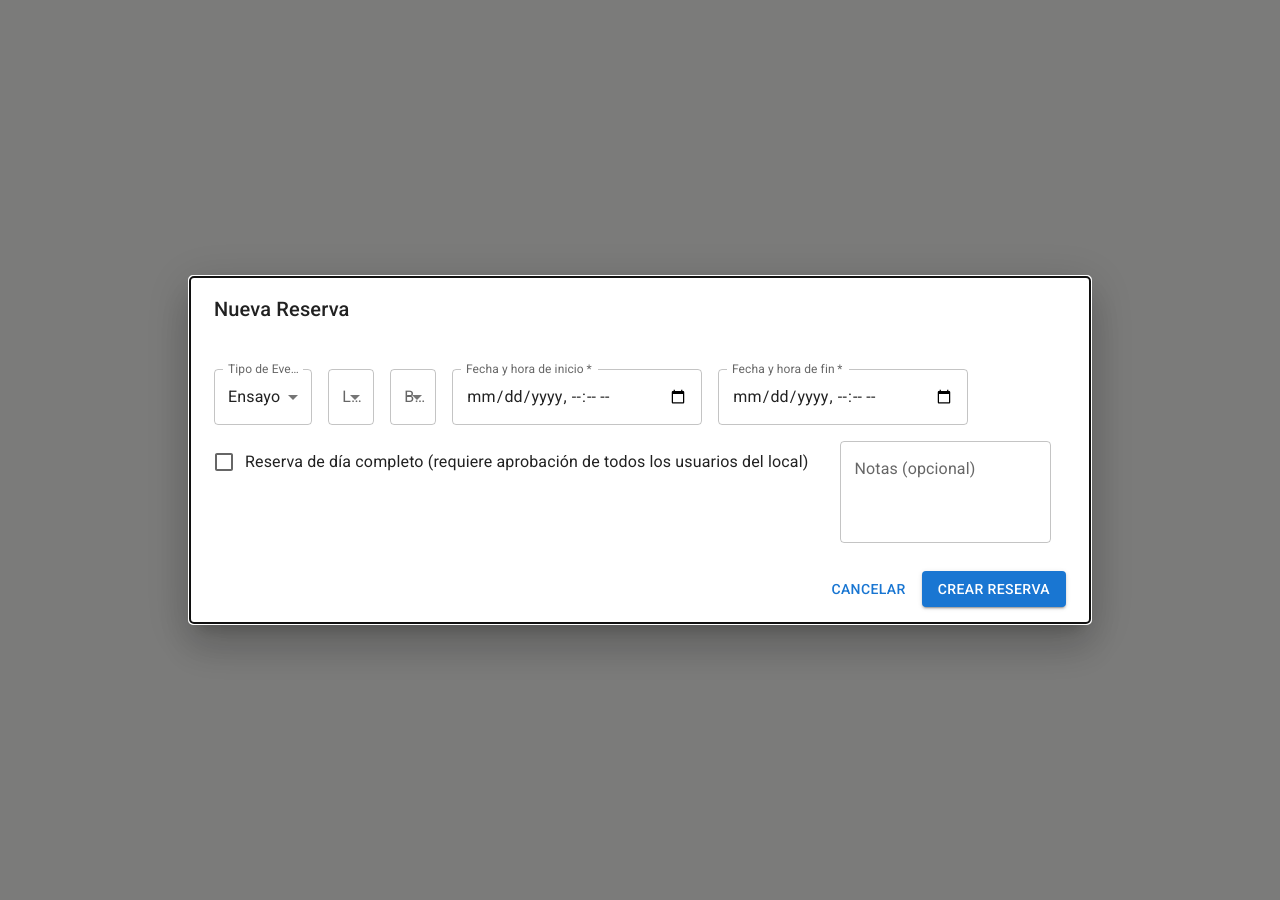
Test: ReservaForm › shows contextual alert for ENSAYO dia completo
This screenshot has width=1280, height=900.
Step 1. Click the checkbox labelled "Reserva de día completo" → (510, 462), box [212, 450, 808, 474]
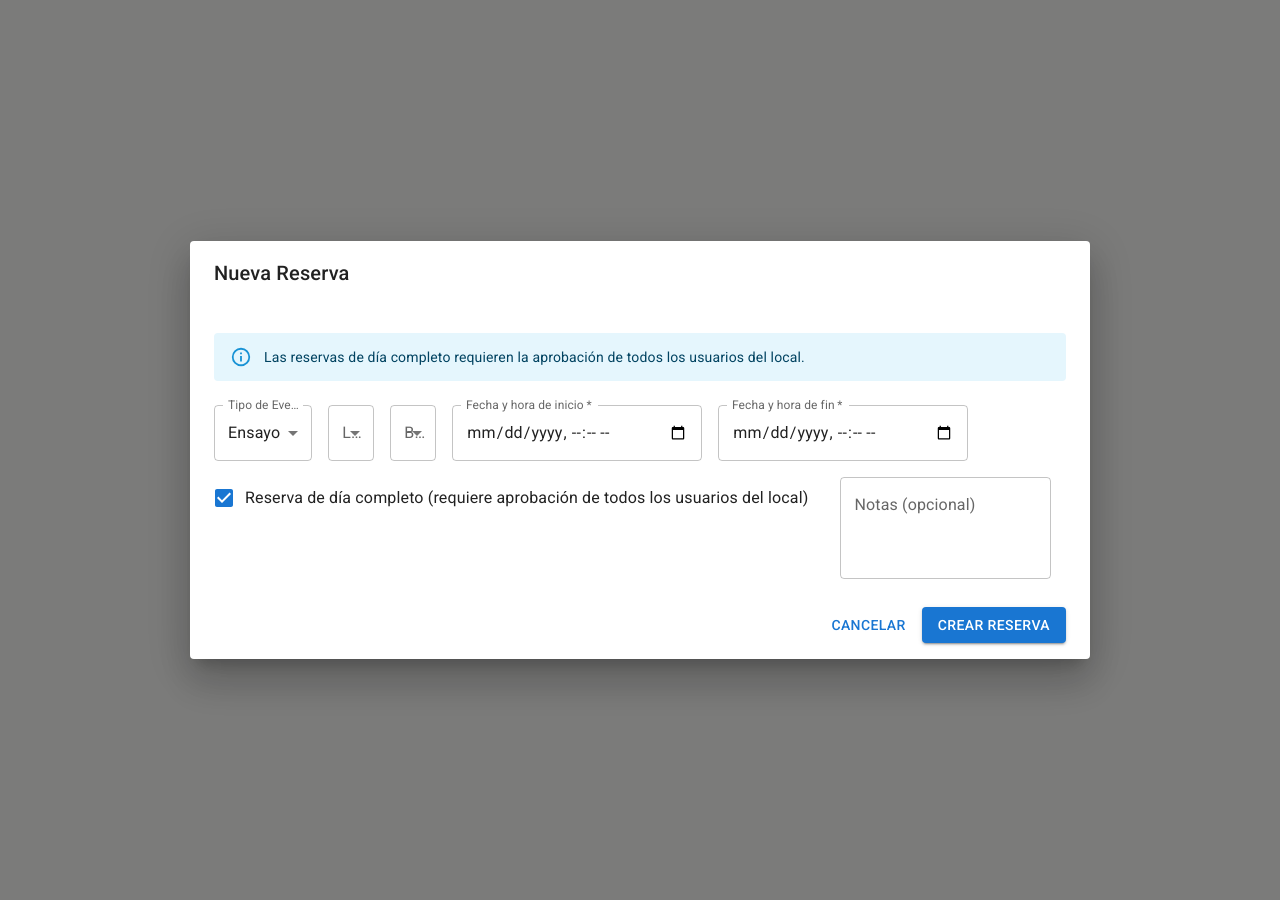
expect the text "requieren la aprobación de todos los usuarios del local" is shown: met, box [264, 349, 805, 365]
